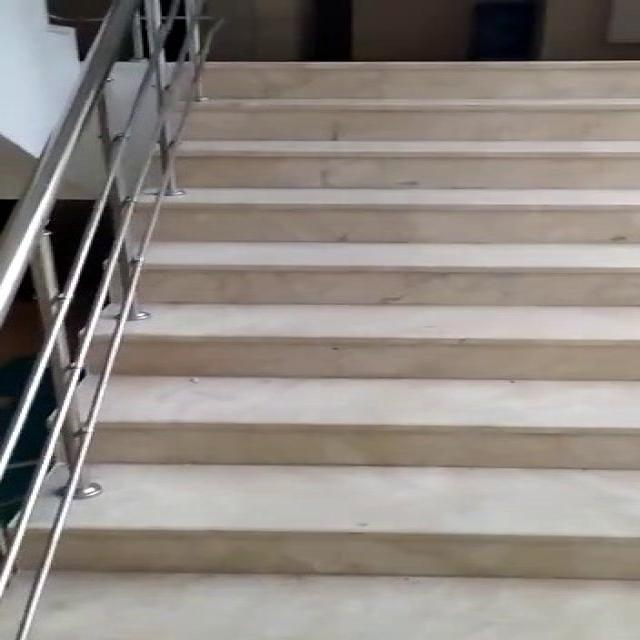stairs: (1, 57, 638, 582)
